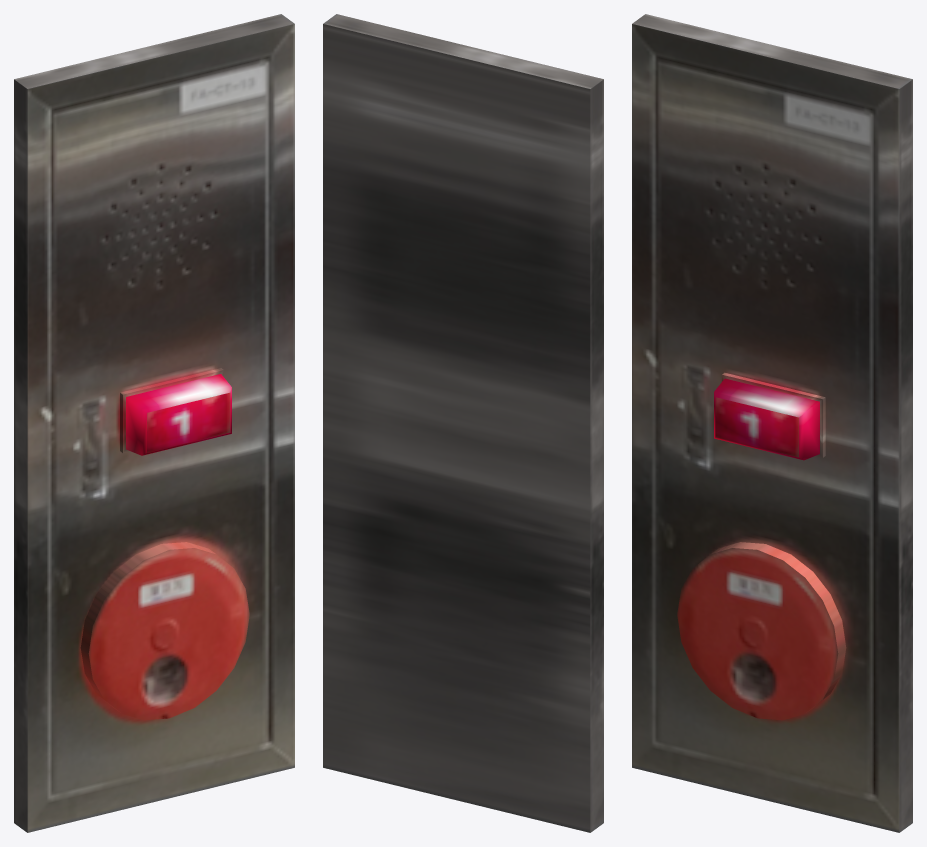
The model's file is fireplugSteel.gltf.
The picture shows the model from 3 angles, left to right: view 1: azimuth 30°, elevation 25°; view 2: azimuth 150°, elevation 25°; view 3: azimuth 330°, elevation 25°; orthographic projection.
Parts seen in each view (by area): view 1: fireplug; view 2: fireplug; view 3: fireplug.
Part boxes in pixels (<box>): fireplug: <box>14,14,294,832</box>; fireplug: <box>323,14,603,832</box>; fireplug: <box>632,14,912,832</box>.
Size of the model in its own units: 3.6 by 9.58 by 0.732.
Materials: 1 (1 with a texture image).
